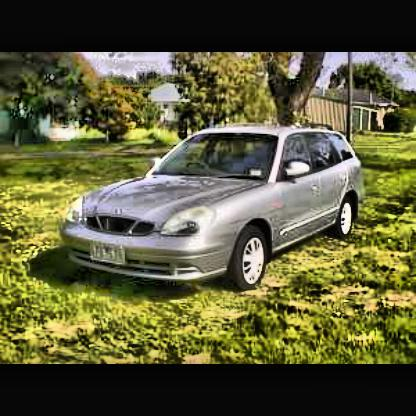Daewoo Nubira Wagon 2002: (61, 121, 370, 297)
